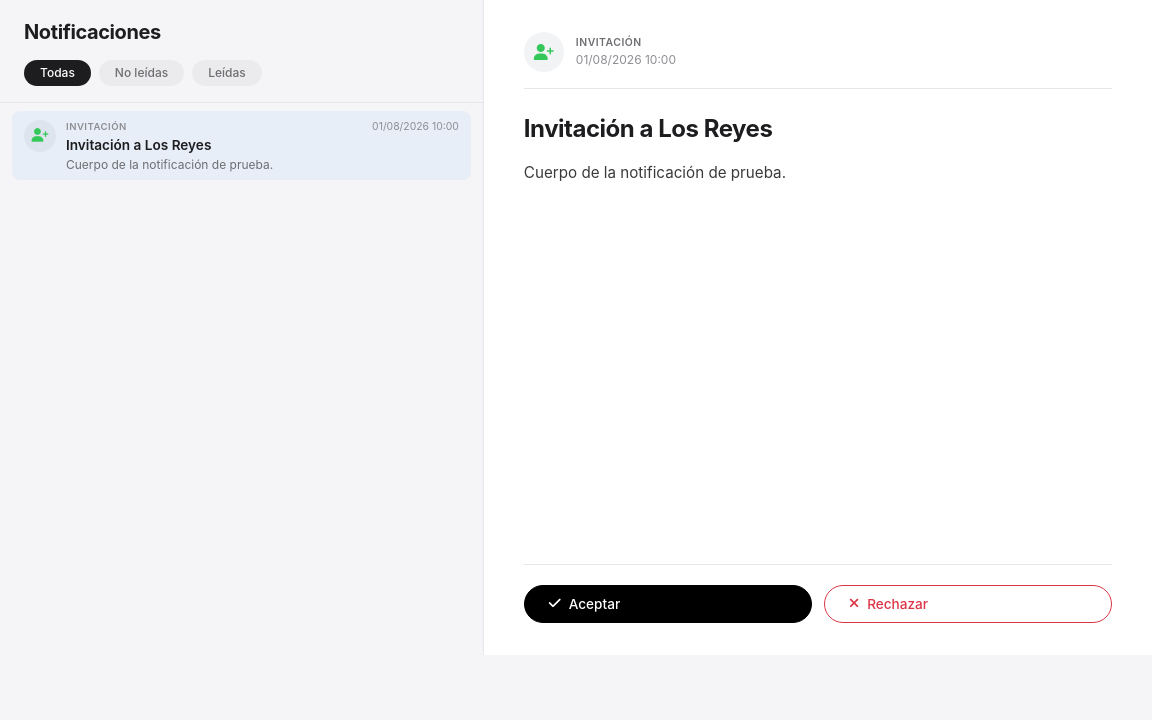
Test: Notifications › rechaza una invitacion con el modal de confirmacion
The width and height of the screenshot is (1152, 720).
Check: the heading "Notificaciones" is shown, box [24,20,161,44]
Step 1. Click the button "Rechazar" → (898, 604), box [824,585,1112,623]
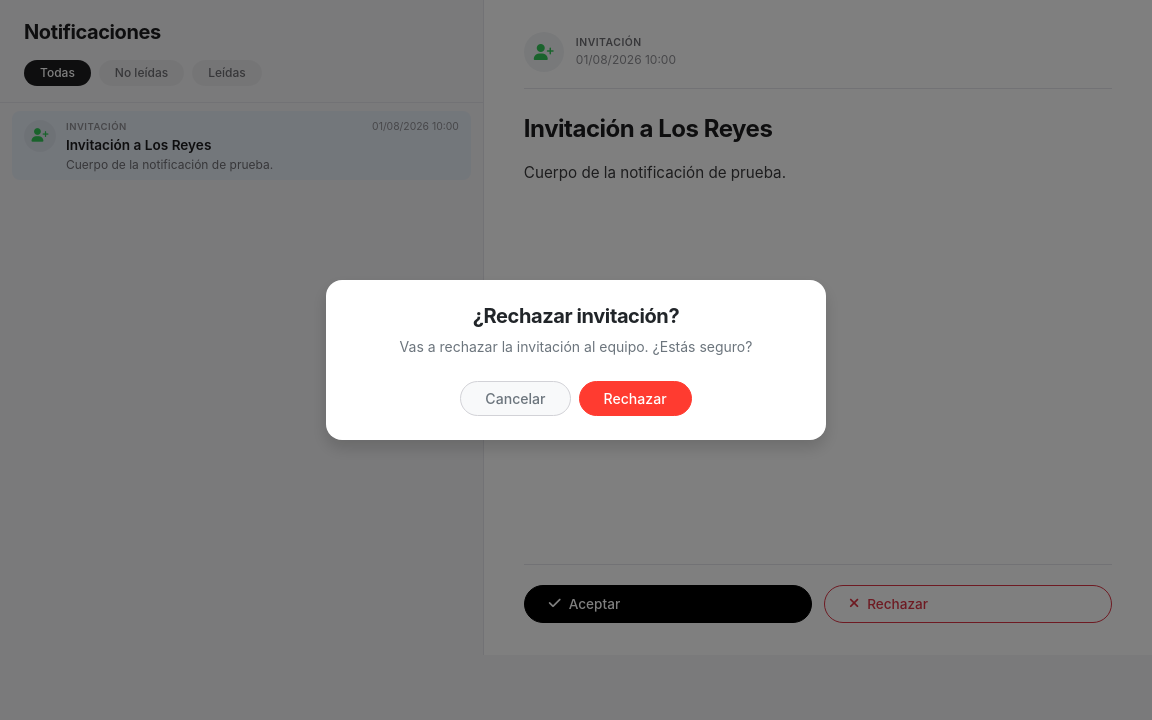
Check: the heading "¿Rechazar invitación?" is shown, box [473,304,679,328]
Step 2. Click the button "Rechazar" → (635, 398), box [578,381,692,416]
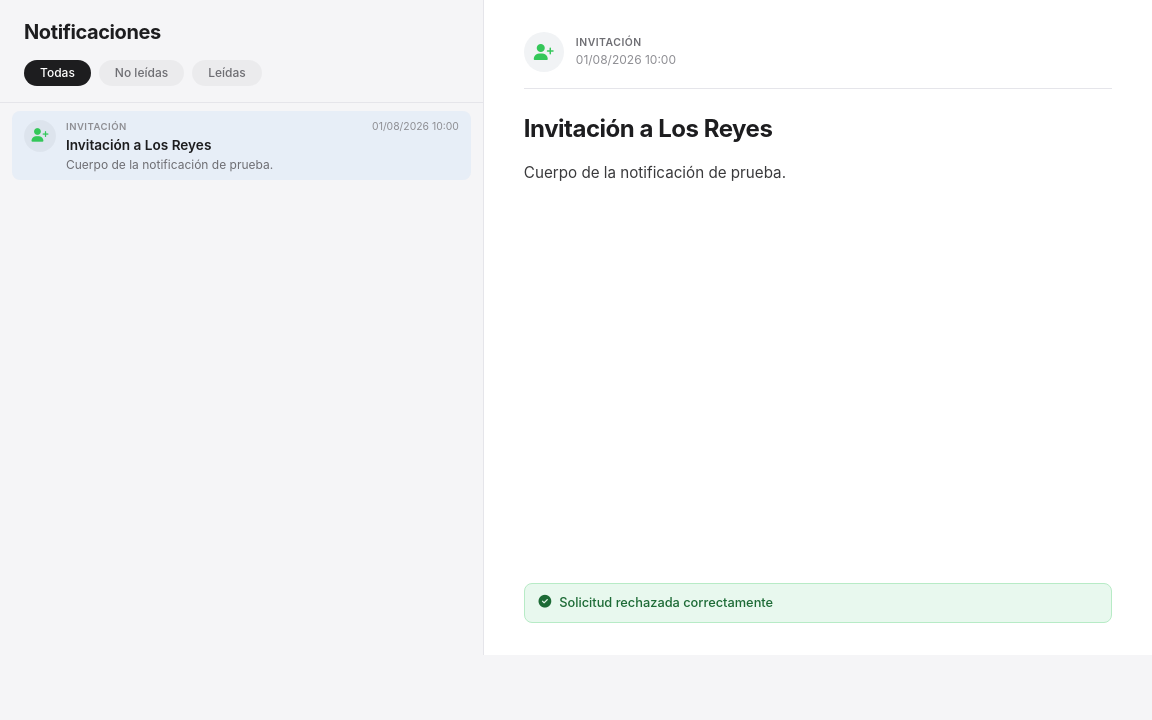
Check: the text "Solicitud rechazada correctamente" is shown, box [524,583,1112,623]
